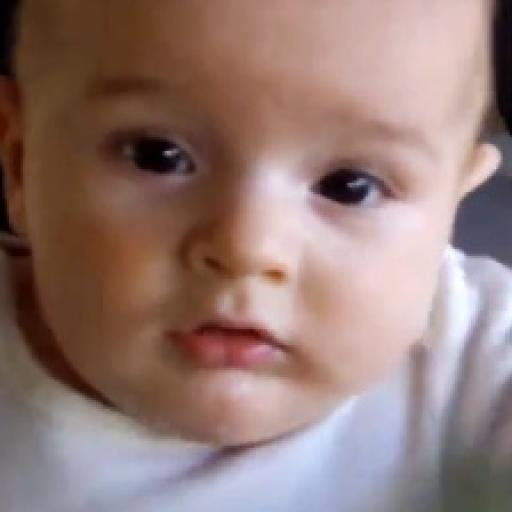Autism: (39, 18, 512, 423)
